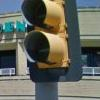Traffic light: (13, 2, 92, 77)
